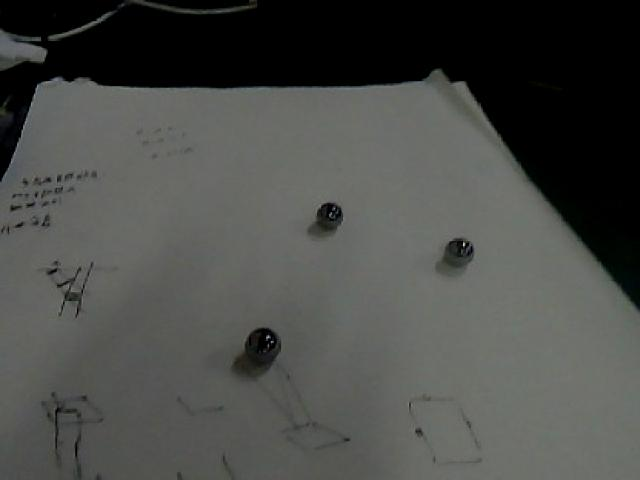steel-ball: (234, 308, 292, 383), (434, 209, 480, 289), (304, 190, 354, 256)
